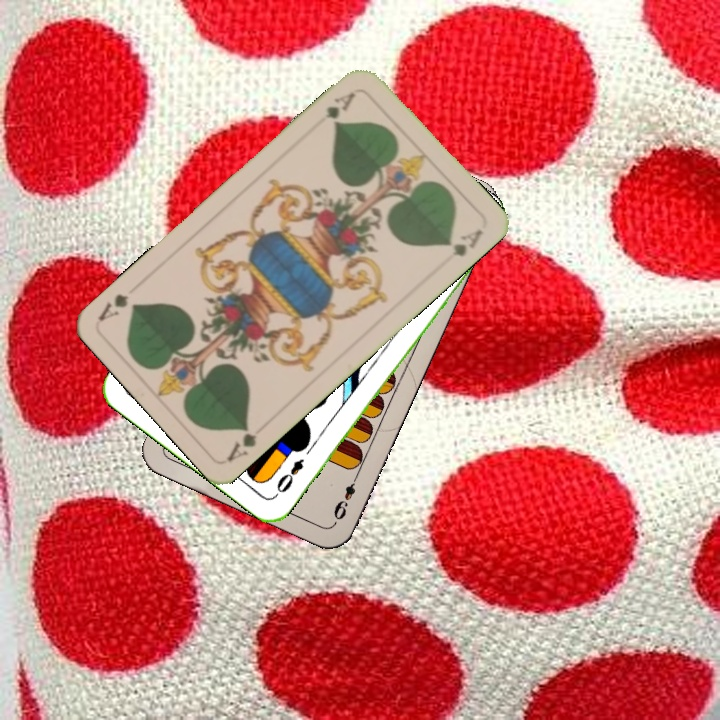E9: (329, 470, 361, 526)
EO: (270, 454, 307, 500)
GA: (223, 421, 260, 464), (321, 88, 358, 129)
